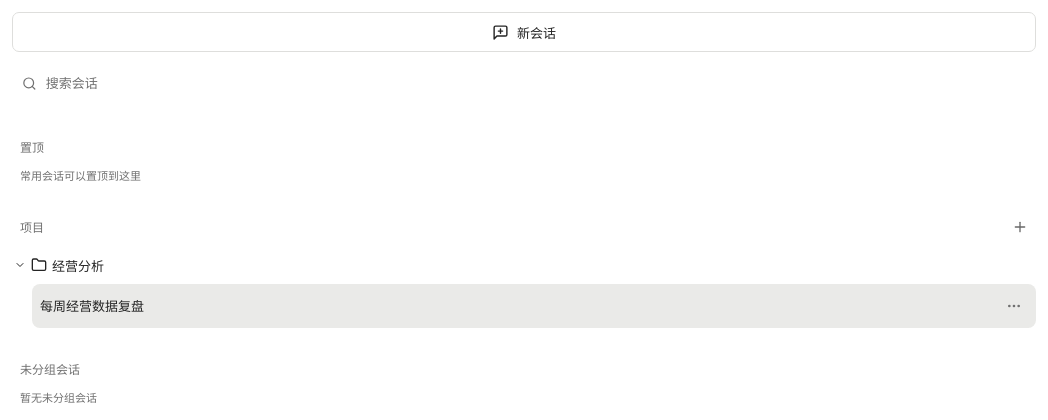
Test case: conversation sidebar › temporarily expands search results without replacing collapse preferences
Click the button "经营分析" at (78, 266), box [12,247,984,284]
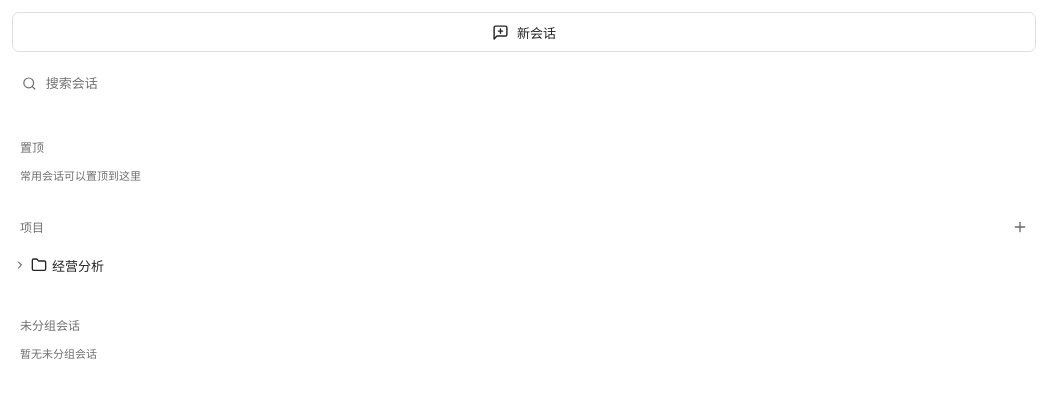
Check: the button "每周经营数据复盘" is gone
Type "debug" into the field labelled "搜索会话" at (536, 83), box [46,70,1026,96]
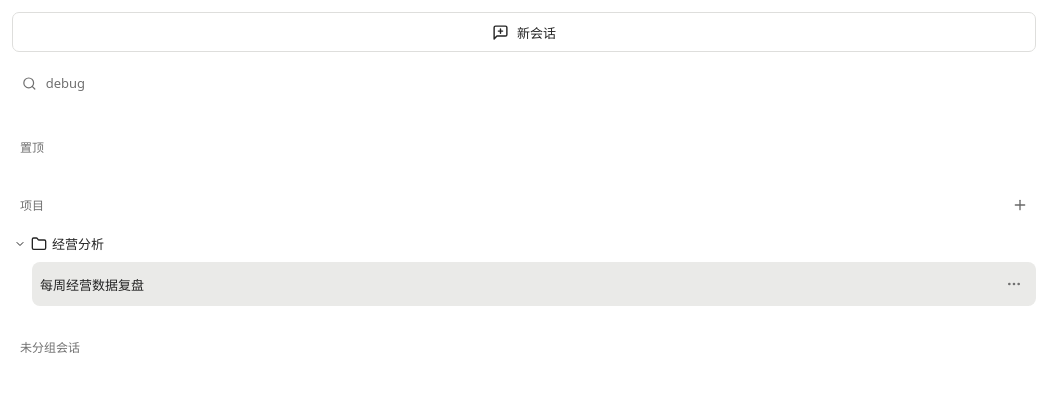
Check: the text "每周经营数据复盘" is shown, box [40,274,144,294]
Clear the field named "搜索会话" at (536, 83), box [46,70,1026,96]
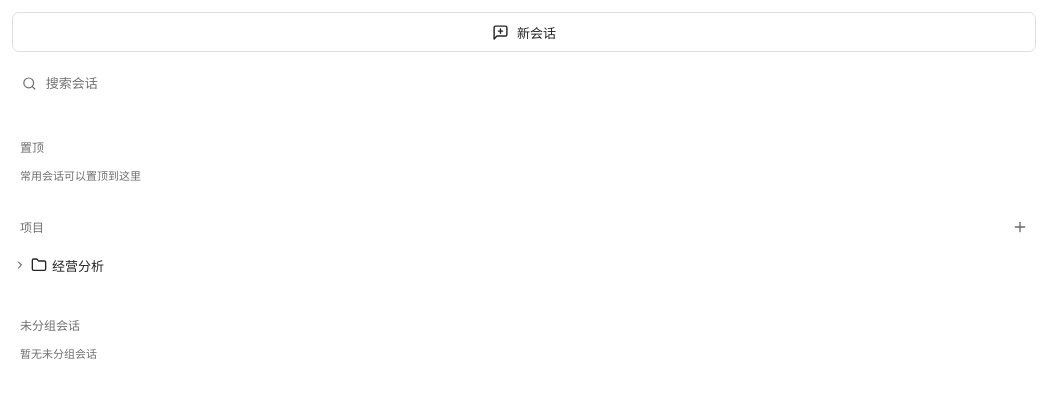
Check: the button "每周经营数据复盘" is gone
